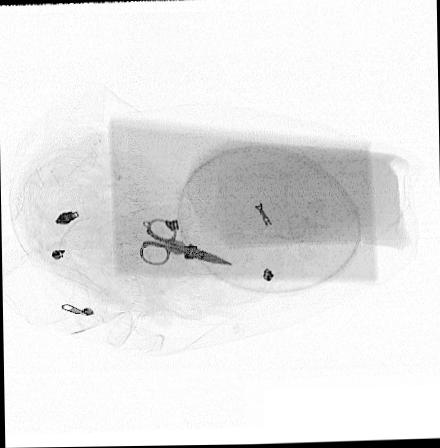Scissors: (136, 216, 232, 267)
